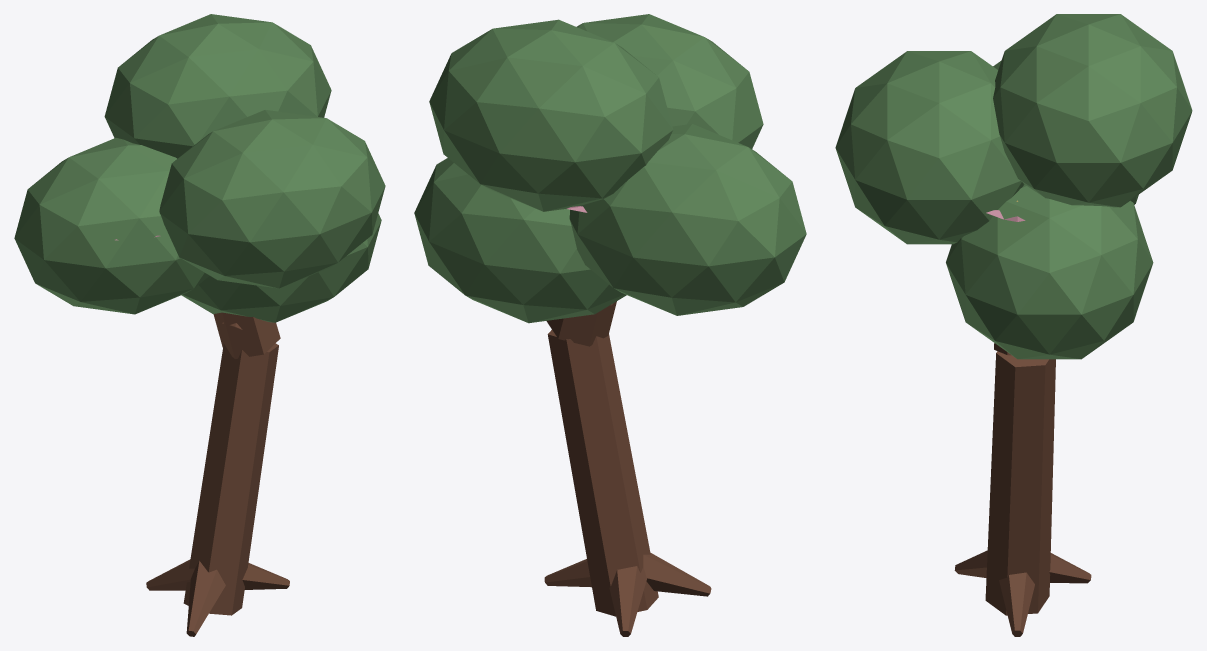
Rendered from map-boundaries-v5__village_02.glb.
The picture shows the model from 3 angles, left to right: view 1: azimuth 30°, elevation 25°; view 2: azimuth 150°, elevation 25°; view 3: azimuth 270°, elevation 25°; orthographic projection. The views are drawn at different scales.
Parts seen in each view (by area): view 1: village_02; view 2: village_02; view 3: village_02.
Boxes of the visible parts, x1,y1,x2,y2 form: village_02: (14,14,385,636); village_02: (414,14,806,636); village_02: (835,14,1192,636).
Size of the model in its own units: 1.95 by 3.05 by 1.65.
